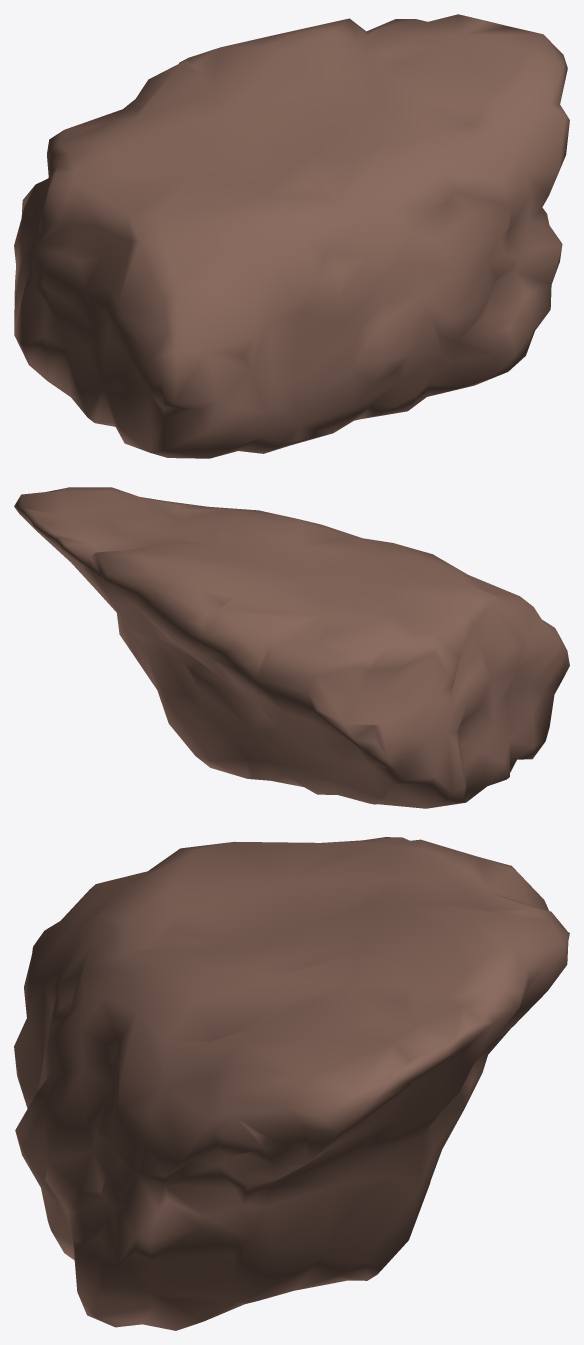
The model's file is Rock_Cliff_03.fbx.
The picture shows the model from 3 angles, top to bottom: view 1: azimuth 30°, elevation 25°; view 2: azimuth 150°, elevation 25°; view 3: azimuth 270°, elevation 25°; orthographic projection. The views are drawn at different scales.
Parts seen in each view (by area): view 1: Rock_Cliff_03_low_LOD0; view 2: Rock_Cliff_03_low_LOD0; view 3: Rock_Cliff_03_low_LOD0.
Part boxes in pixels (left/top/right/bottom): Rock_Cliff_03_low_LOD0: left=14, top=14, right=569, bottom=458; Rock_Cliff_03_low_LOD0: left=14, top=487, right=569, bottom=808; Rock_Cliff_03_low_LOD0: left=14, top=837, right=569, bottom=1330.
Size of what is drawn, in the model's own units: 701 by 333 by 486.
